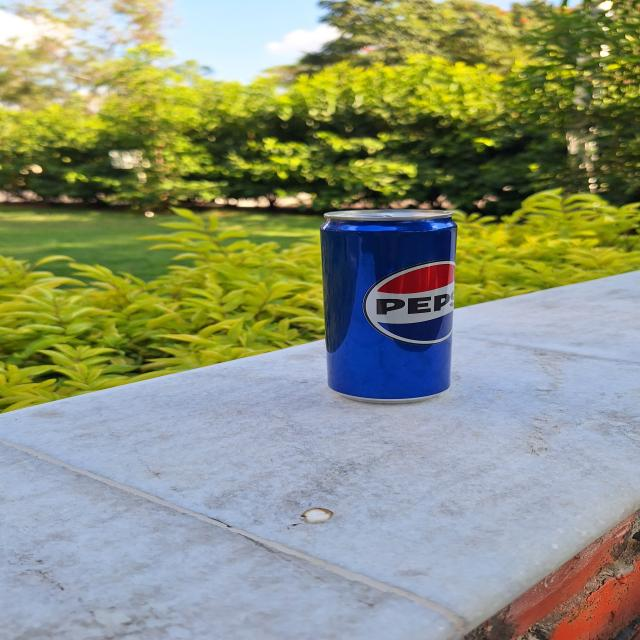Pepsi: (315, 209, 460, 400)
